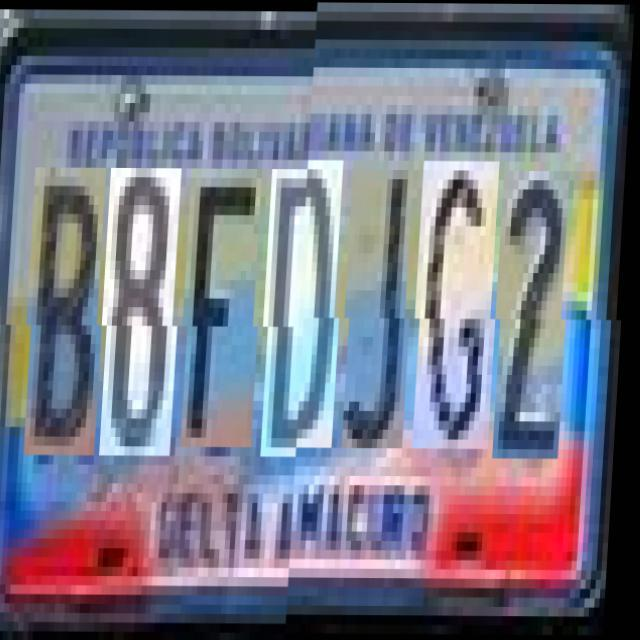2: (498, 179, 576, 467)
8: (105, 168, 189, 456)
B: (29, 167, 113, 455)
D: (266, 168, 350, 456)
F: (186, 168, 269, 447)
G: (417, 170, 506, 458)
J: (346, 169, 421, 457)
